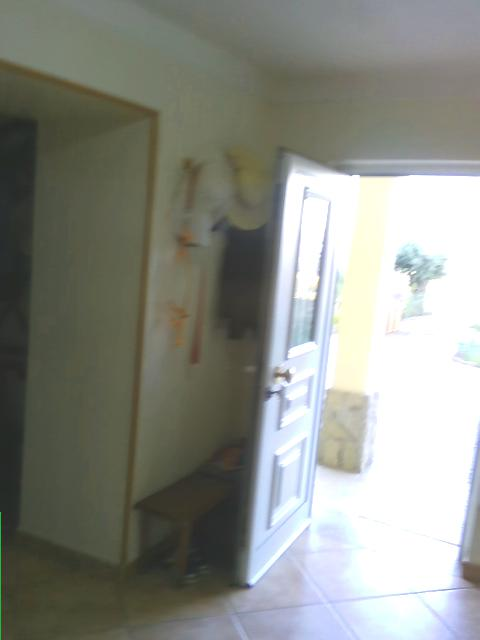open_door: (292, 154, 479, 560)
